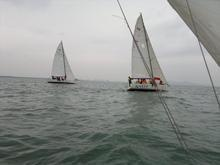fanchuan: (125, 13, 176, 94), (46, 38, 85, 88)
